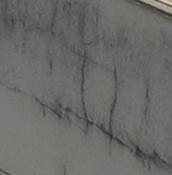termicas: (32, 84, 172, 174), (0, 0, 99, 47), (71, 44, 98, 128), (108, 60, 121, 146)
